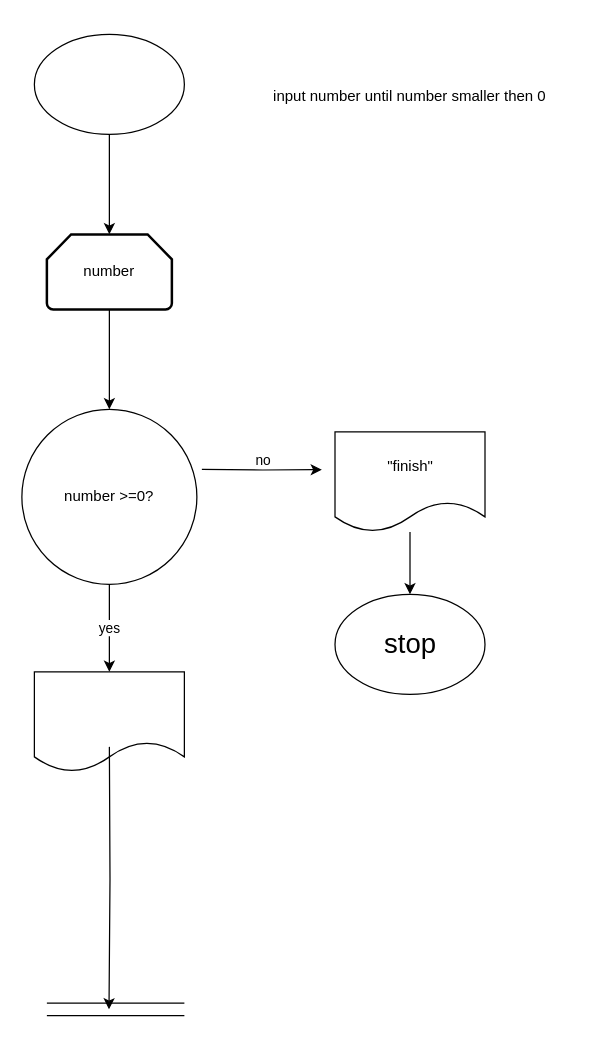
The diagram is 606 pixels wide and 1041 high, and some of its shapes have lost their labels. The shapes that lost their labels are listed below. From the top down, each one's centre as x and y in pixels, then its label:
[108,83]: start
[108,721]: "number negative to finish"
